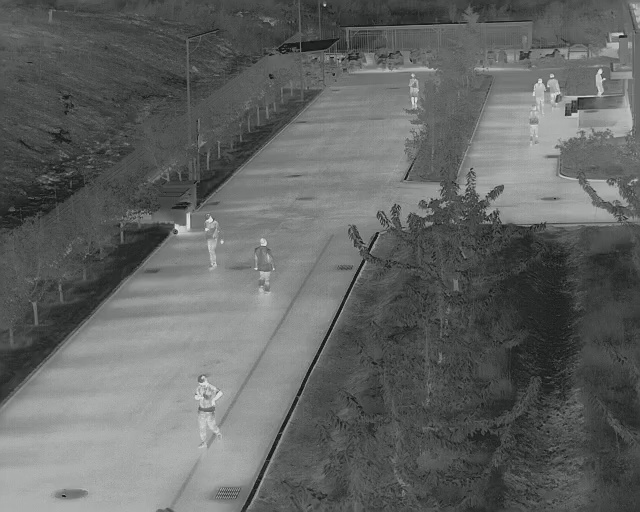person: (189, 371, 224, 451), (200, 211, 226, 273), (252, 234, 277, 294), (527, 102, 541, 147), (547, 72, 561, 111), (407, 71, 419, 107), (531, 76, 547, 103), (594, 68, 607, 95)
